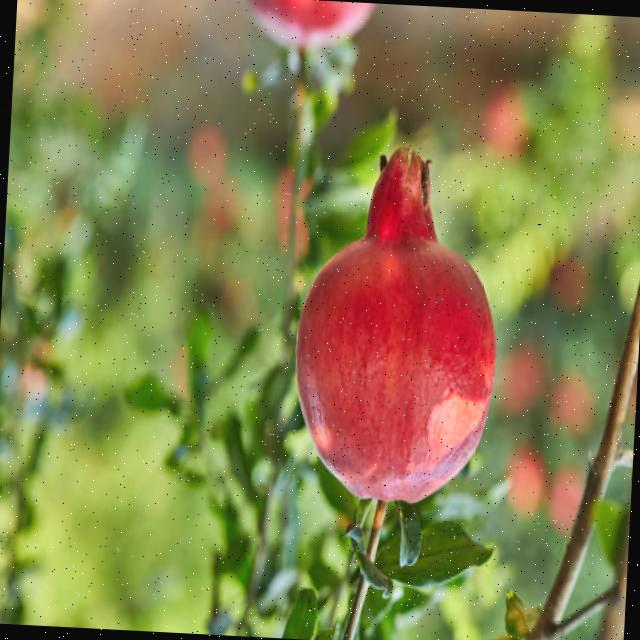Ripe: (284, 139, 505, 522)
